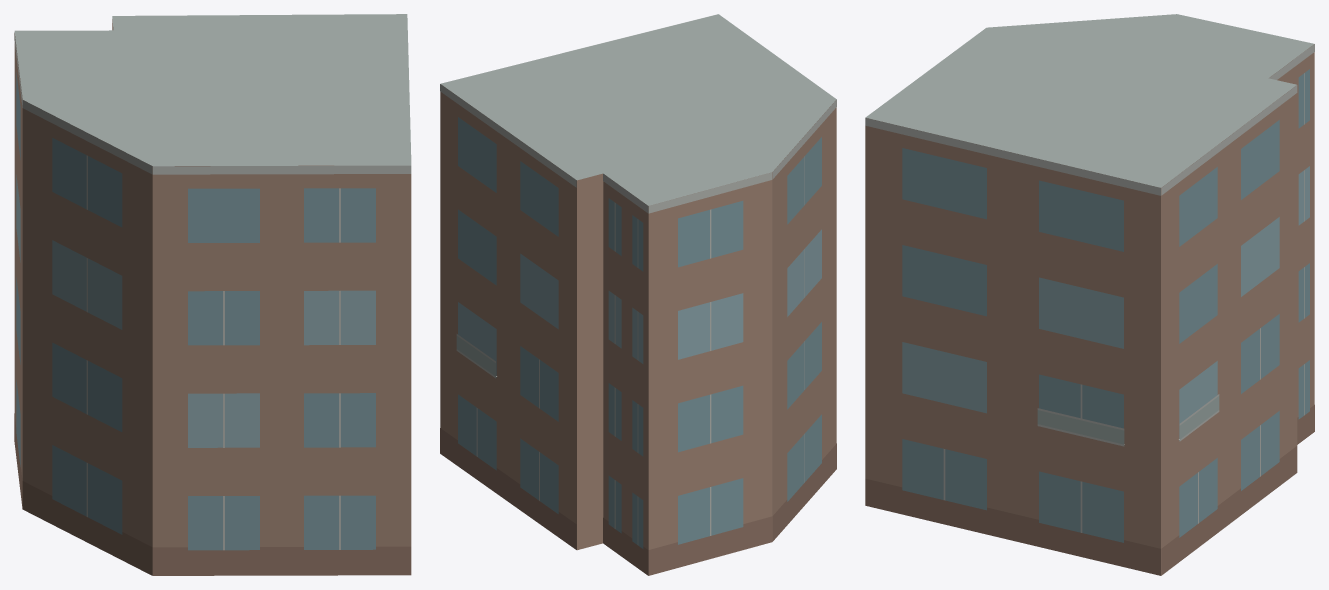
The model's file is survey-upis-32616468.glb.
The picture shows the model from 3 angles, left to right: view 1: azimuth 30°, elevation 25°; view 2: azimuth 150°, elevation 25°; view 3: azimuth 270°, elevation 25°; orthographic projection. The views are drawn at different scales.
Visible parts, largest first — view 1: survey-upis-32616468.tmp; view 2: survey-upis-32616468.tmp; view 3: survey-upis-32616468.tmp.
Boxes of the visible parts, left/top/right/bottom form: survey-upis-32616468.tmp: left=14, top=14, right=411, bottom=575; survey-upis-32616468.tmp: left=440, top=14, right=836, bottom=575; survey-upis-32616468.tmp: left=865, top=14, right=1314, bottom=575.
Size of the model in its own units: 11.35 by 11.8 by 12.4.
